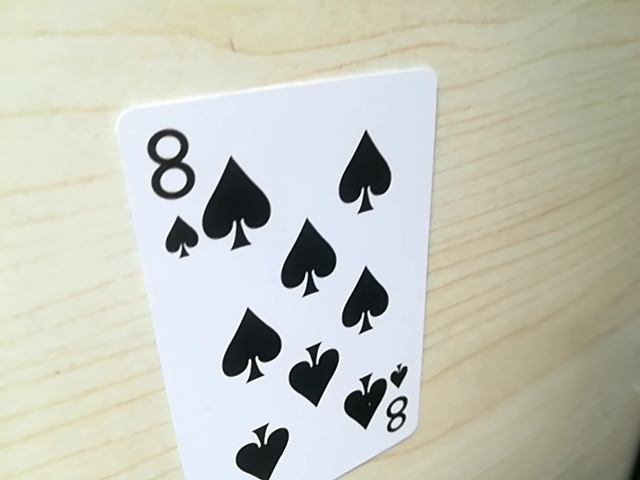ht 8: (137, 116, 209, 259), (369, 365, 415, 442)
